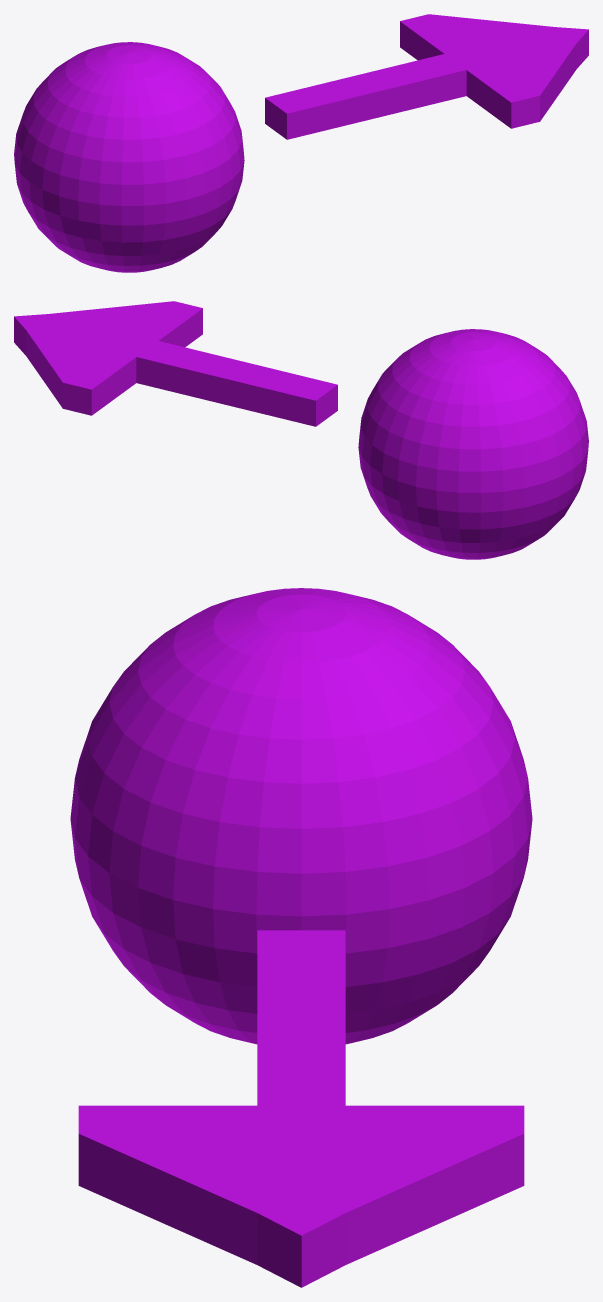
The model's file is arrow.glb.
The picture shows the model from 3 angles, top to bottom: view 1: azimuth 30°, elevation 25°; view 2: azimuth 150°, elevation 25°; view 3: azimuth 270°, elevation 25°; orthographic projection. The views are drawn at different scales.
Parts seen in each view (by area): view 1: Plane; view 2: Plane; view 3: Plane.
Boxes of the visible parts, <box> form: Plane: <box>14,14,588,272</box>; Plane: <box>14,301,588,559</box>; Plane: <box>70,588,532,1287</box>.
Bounding box in the file's own units: 5.6 × 2 × 2.
